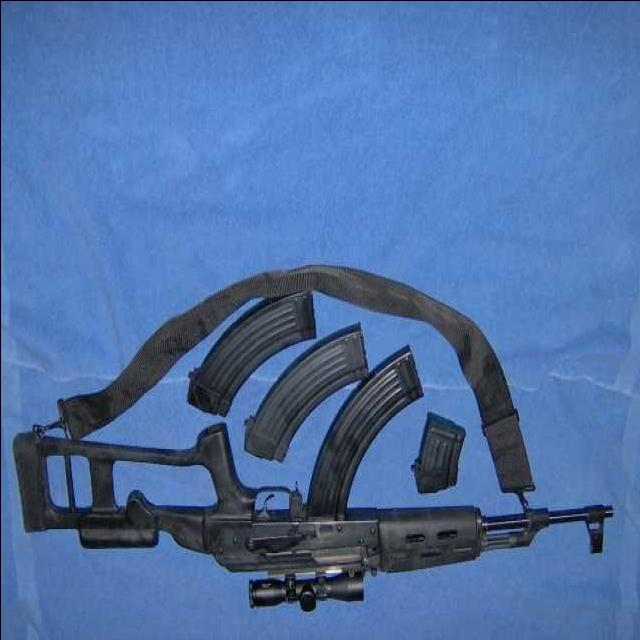heavyweapon: (1, 397, 617, 589)
